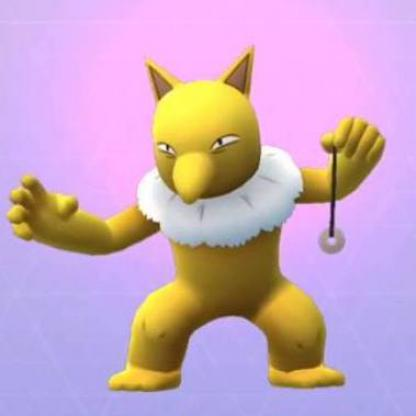Hypno: (5, 46, 411, 395)
